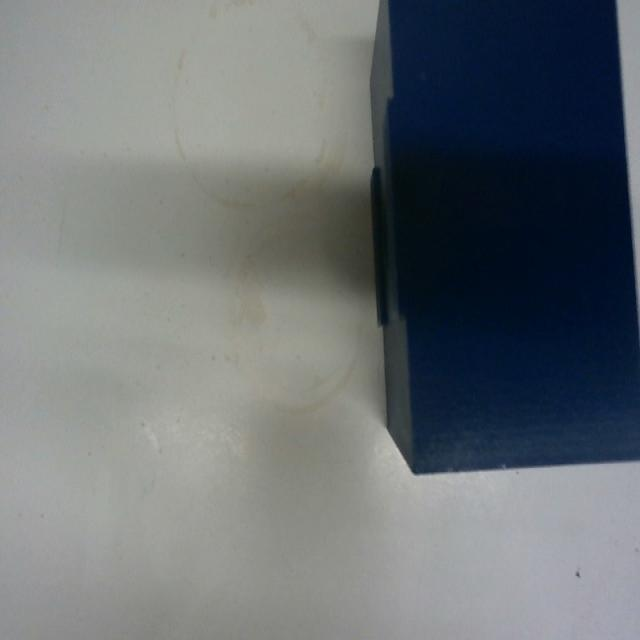Blue Cuboid: (365, 0, 639, 476)
